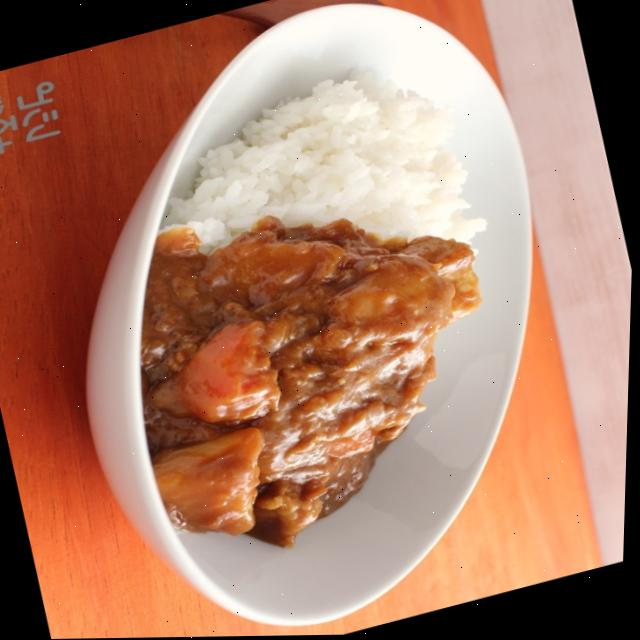Wet: (72, 43, 567, 574)
